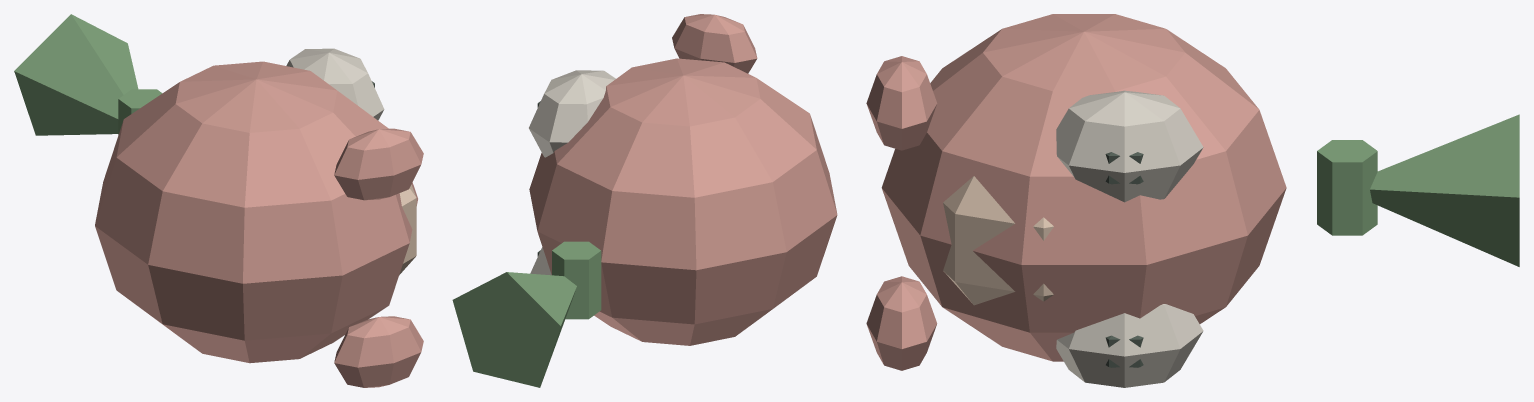
Rendered from minion_red.fbx.
The picture shows the model from 3 angles, left to right: view 1: azimuth 30°, elevation 25°; view 2: azimuth 150°, elevation 25°; view 3: azimuth 270°, elevation 25°; orthographic projection. The views are drawn at different scales.
Visible parts, largest first — view 1: minion_red; view 2: minion_red; view 3: minion_red.
Part boxes in pixels (x1=…): minion_red: x1=14, y1=14, x2=423, y2=387; minion_red: x1=452, y1=14, x2=837, y2=387; minion_red: x1=866, y1=14, x2=1519, y2=387.
Size of the model in its own units: 36.14 by 34 by 64.5.
